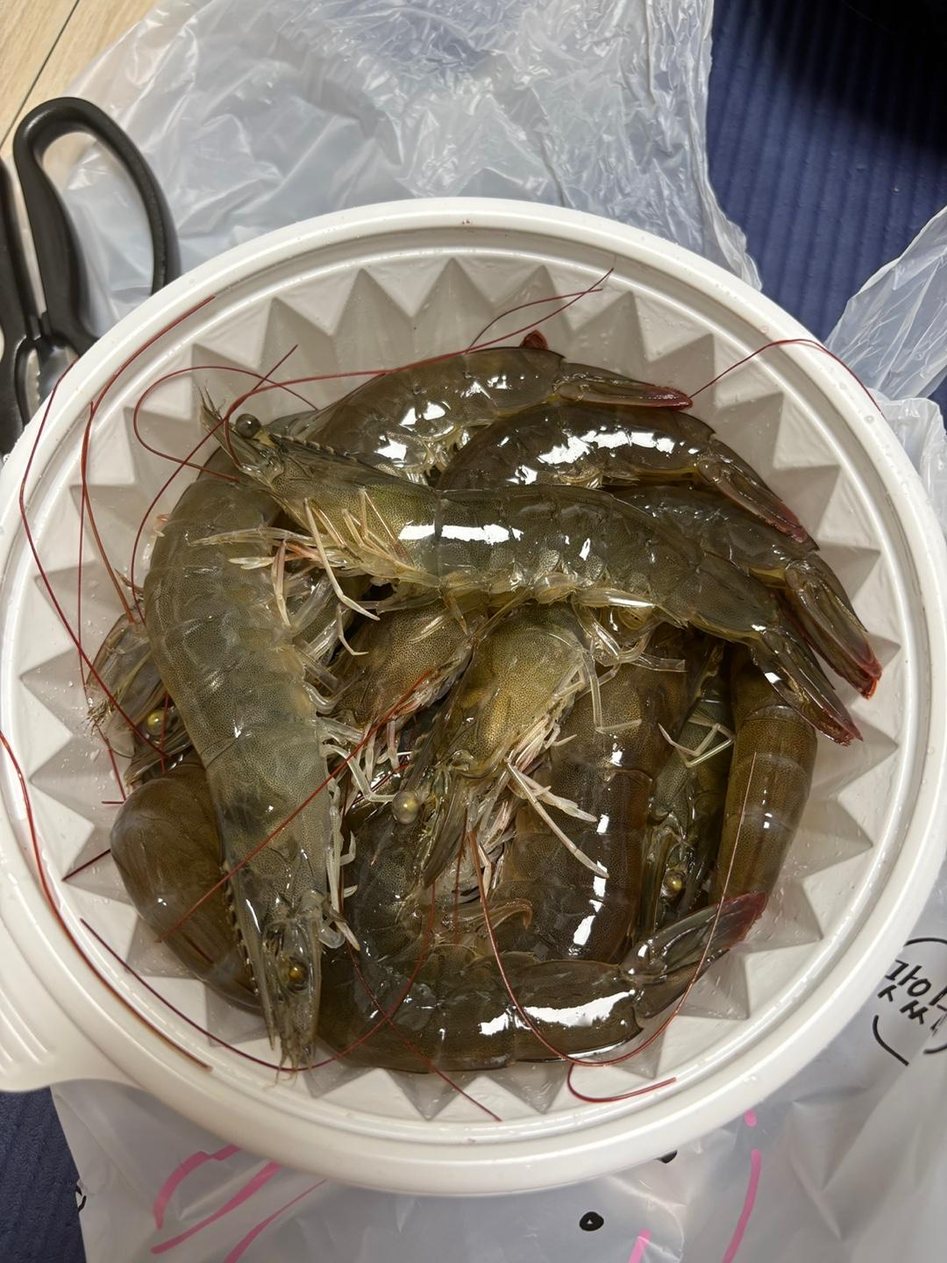Lunch Box: (0, 199, 946, 1195)
